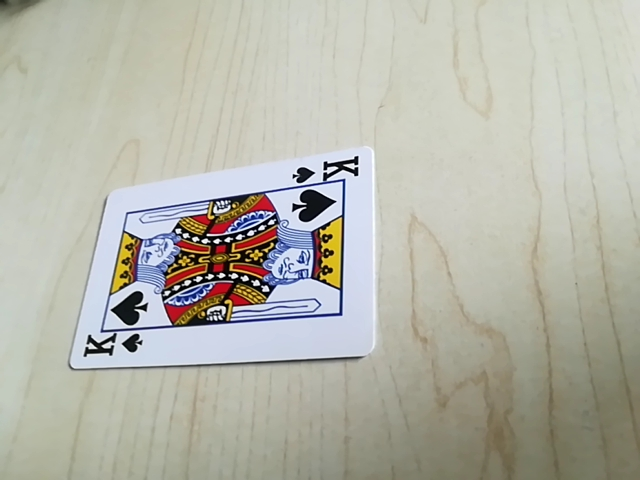ht k: (75, 327, 147, 365), (286, 157, 361, 185)
